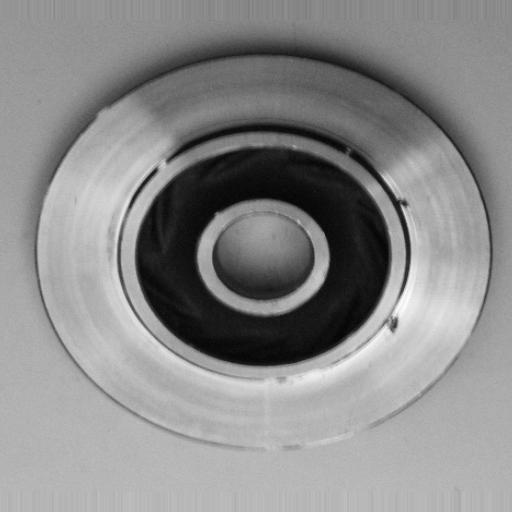crack: (378, 309, 412, 344), (386, 190, 419, 222)
scratch: (257, 351, 351, 399)
unpolished_casting: (33, 50, 495, 457)
